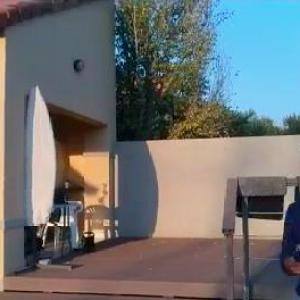follow: (275, 129, 299, 299)
